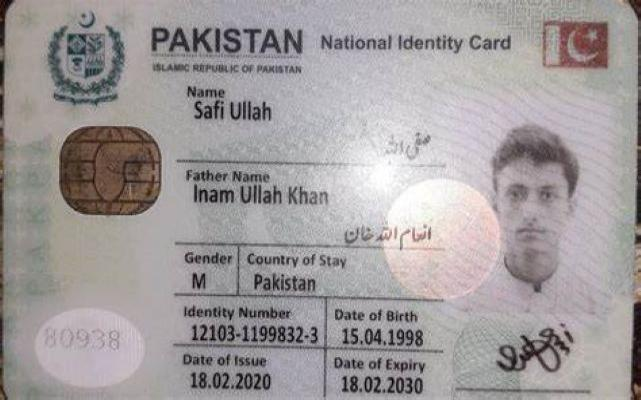fname: (189, 179, 331, 208)
name: (191, 96, 275, 127)
number: (189, 320, 322, 350)
